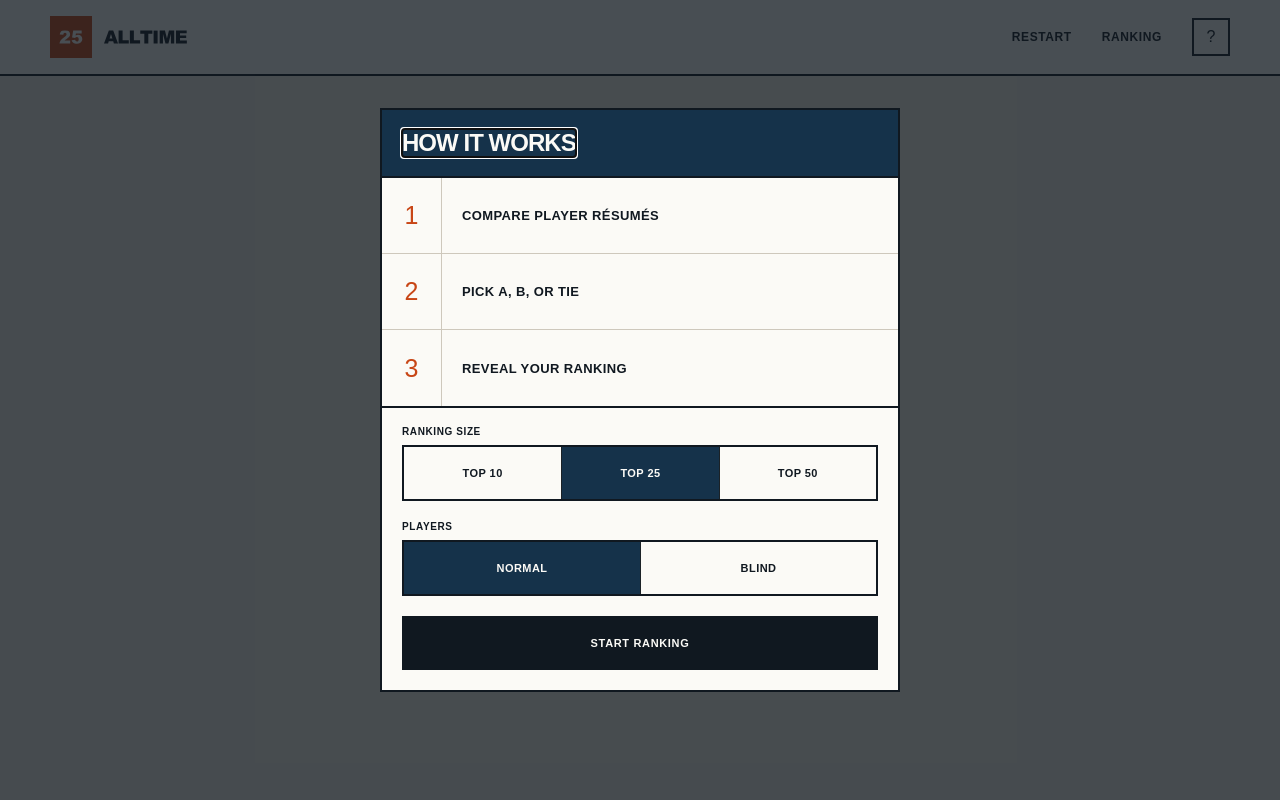
Test case: App dialogs › requires a mode choice before creating the first ranking
The image size is (1280, 800).
Check: the dialog "How it works" is shown, box [380,108,900,692]
Click the radio button labelled "Top 10" at (483, 473), box [463,467,503,479]
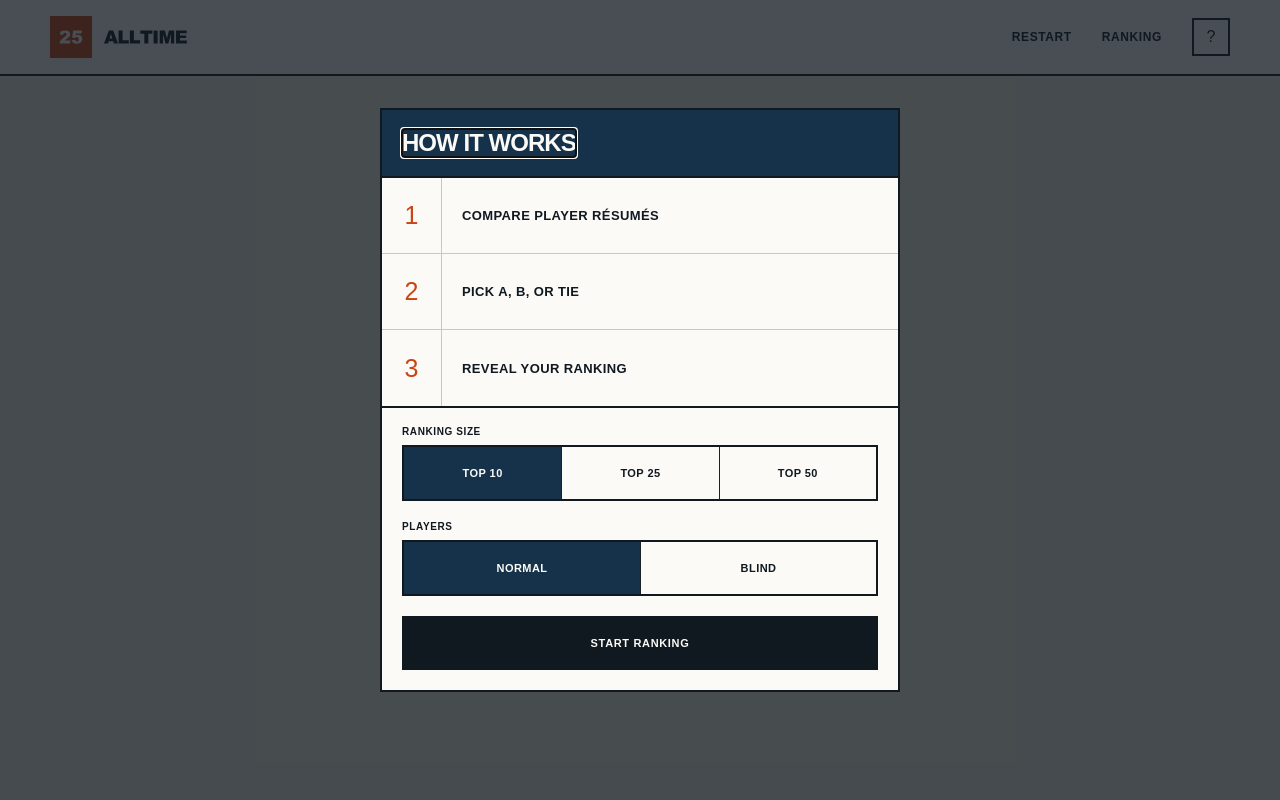
Click the radio button labelled "Blind" at (758, 568), box [640,542,876,594]
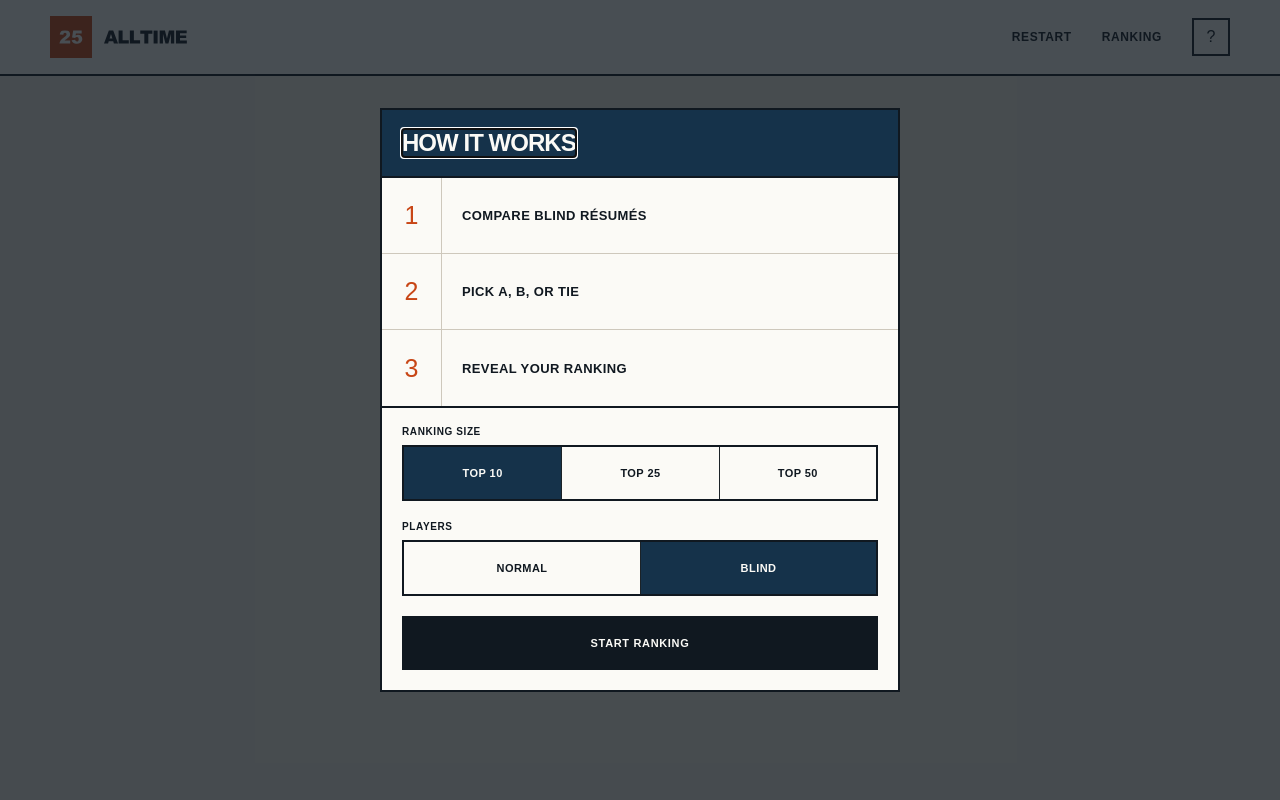
Click the button "Start ranking" at (640, 643), box [402,616,878,670]
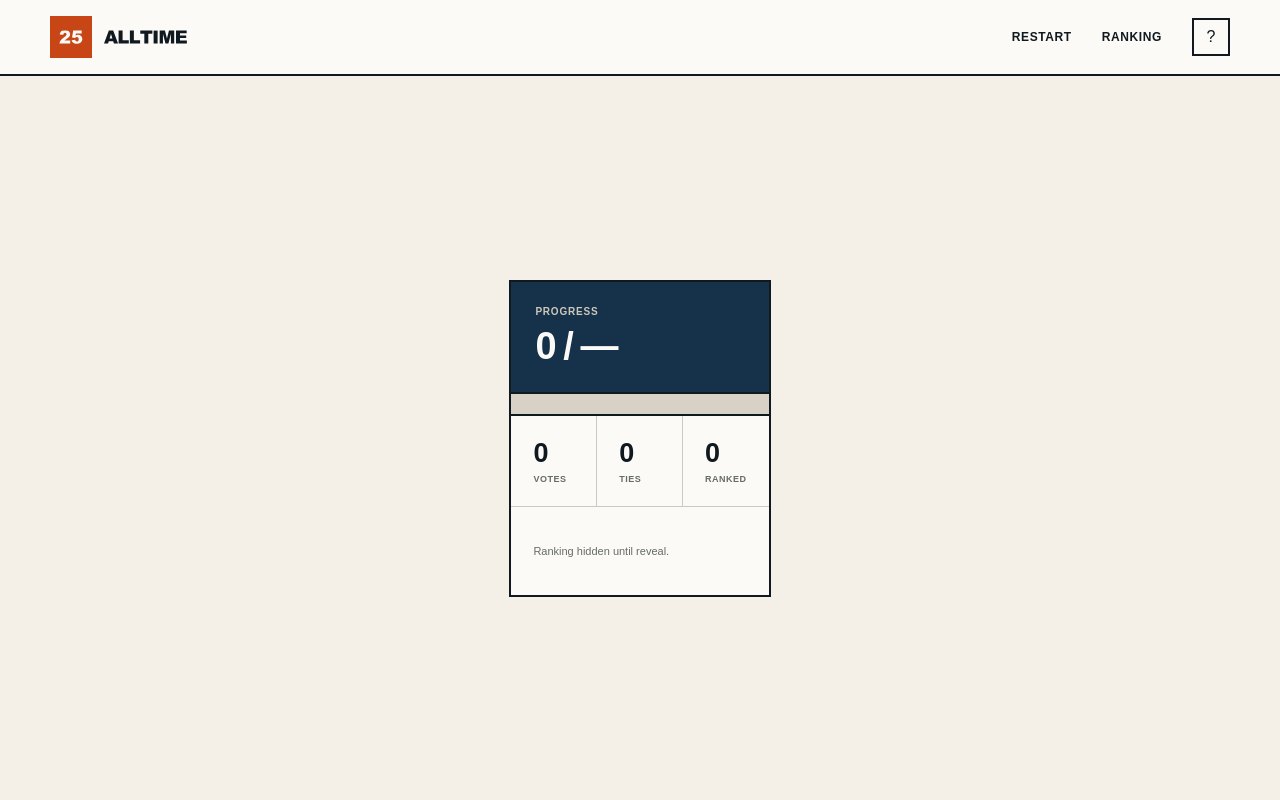
Check: the heading "How it works" is gone
Click the button named "How to play" at (1211, 37), box [1192,18,1230,56]
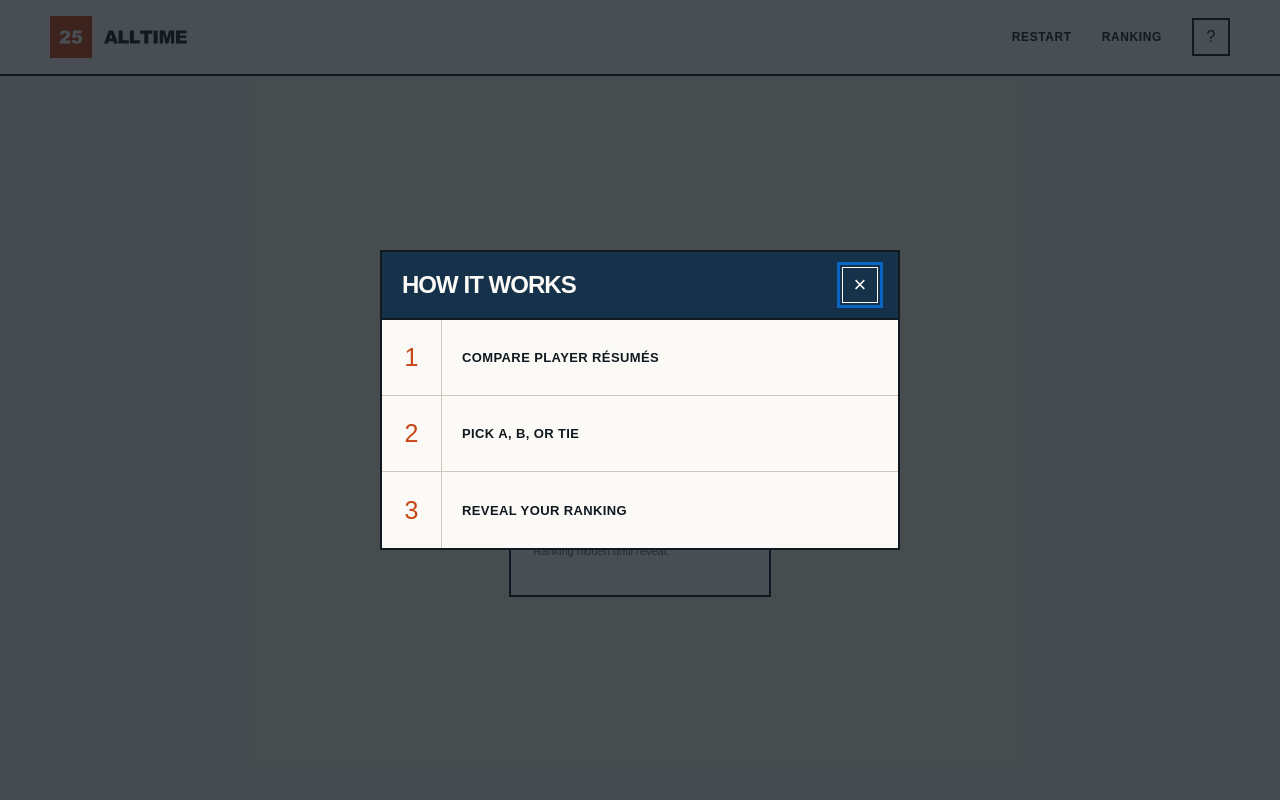
Check: the button named "Close instructions" is shown, box [842,267,878,303]
